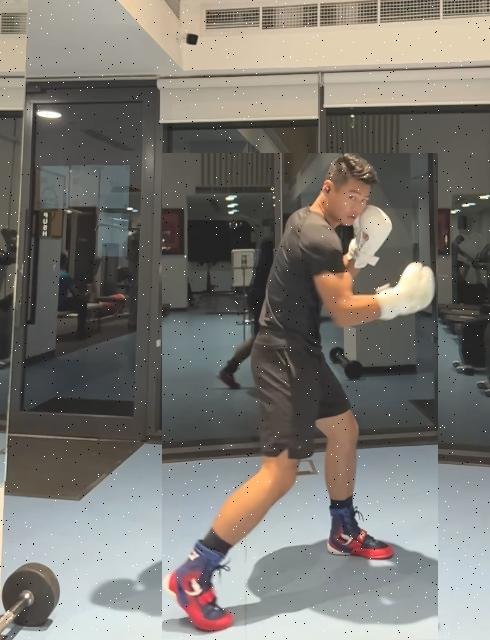punch: (162, 153, 438, 639)
